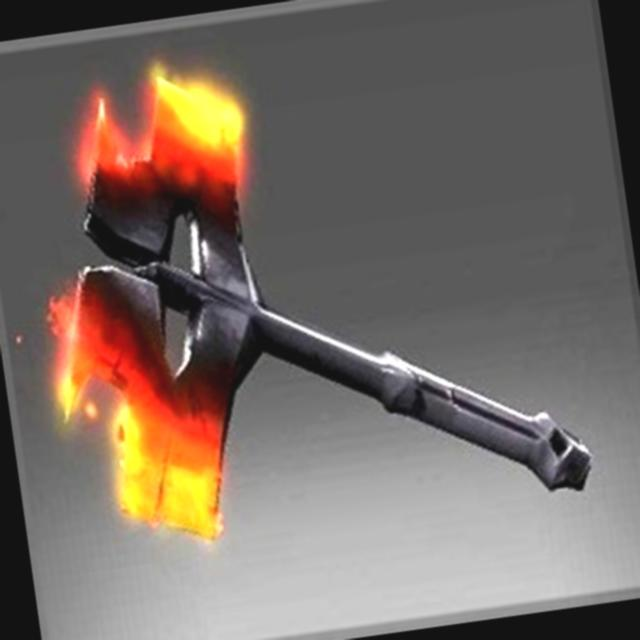ax: (0, 0, 624, 610)
